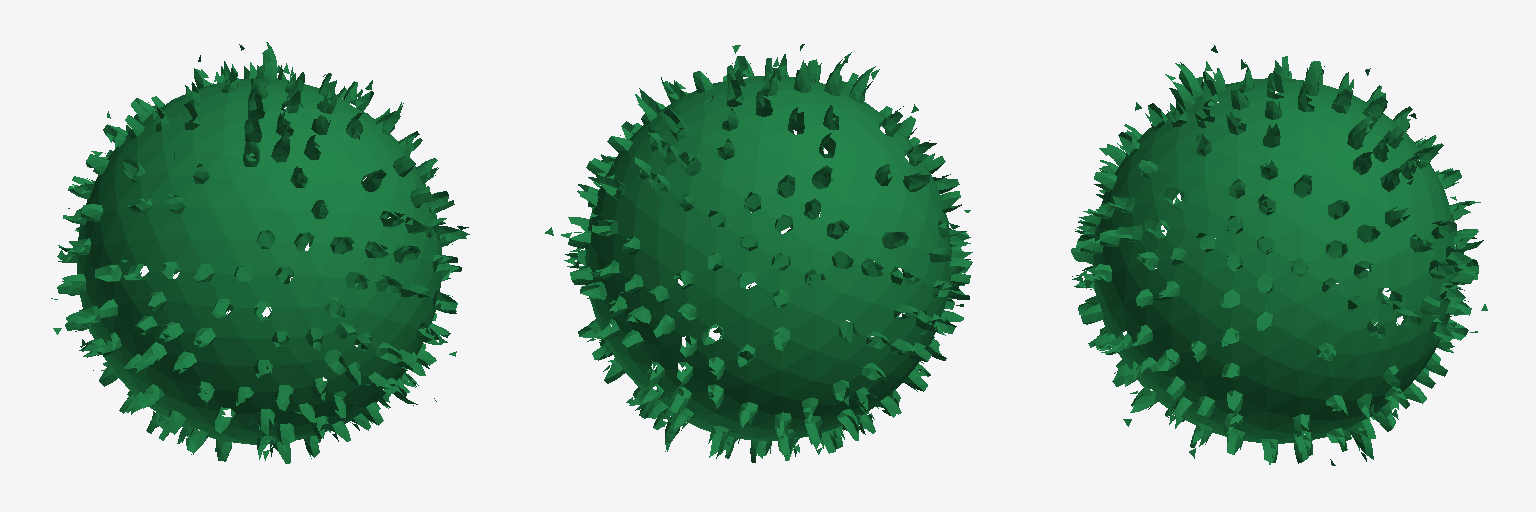
The model's file is B细胞.obj.
3 renders of one model, left to right at view 1: azimuth 30°, elevation 25°; view 2: azimuth 150°, elevation 25°; view 3: azimuth 270°, elevation 25°, orthographic.
Visible parts, largest first — view 1: VRayProxy003; view 2: VRayProxy003; view 3: VRayProxy003.
Part boxes in pixels (bbox=[...]): VRayProxy003: bbox=[51, 42, 469, 463]; VRayProxy003: bbox=[545, 44, 972, 462]; VRayProxy003: bbox=[1071, 45, 1487, 465].
Bounding box in the file's own units: 2.35 × 2.25 × 2.27.